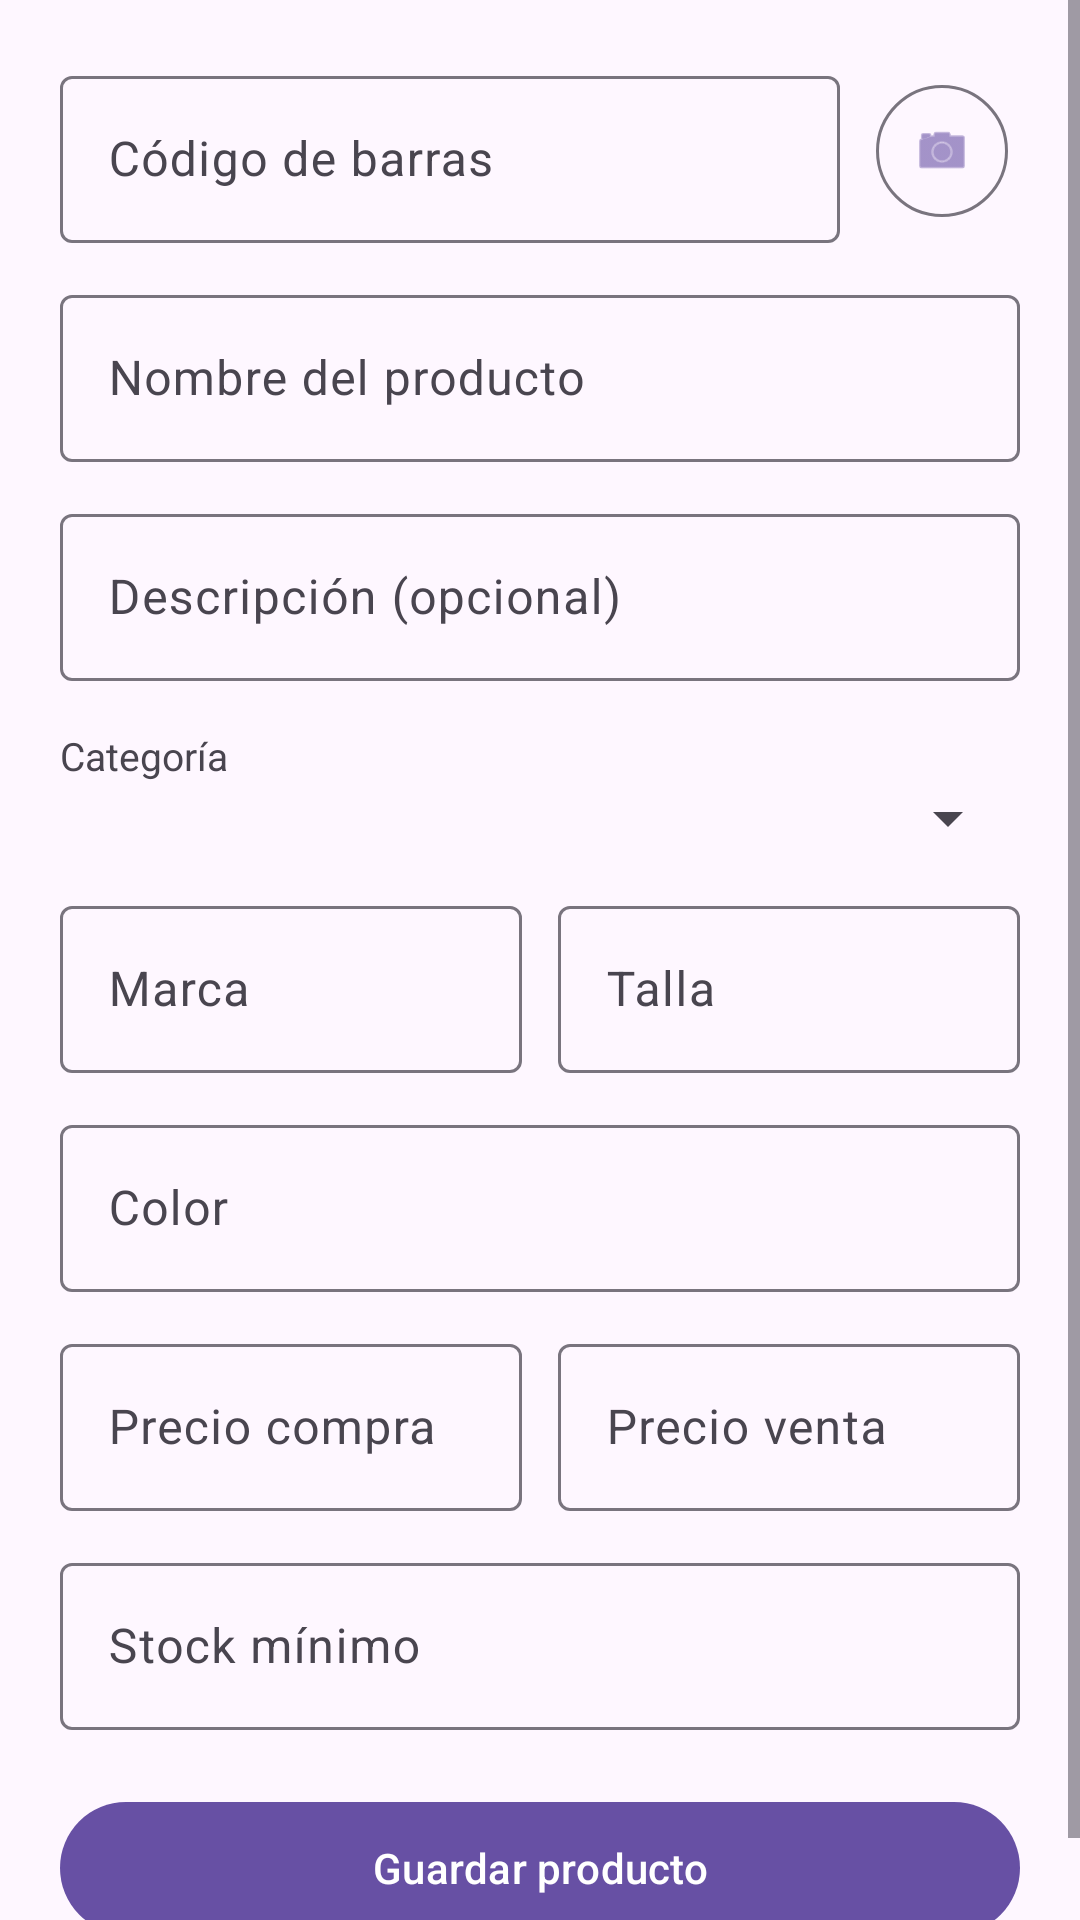

Icons on this 1080 × 1920 Android screen, each with its box as bbox=(x1, y1, x2, y2):
camera: bbox=(876, 85, 1008, 217)
